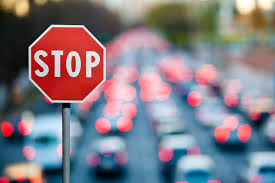stop sign: (28, 24, 105, 103)
